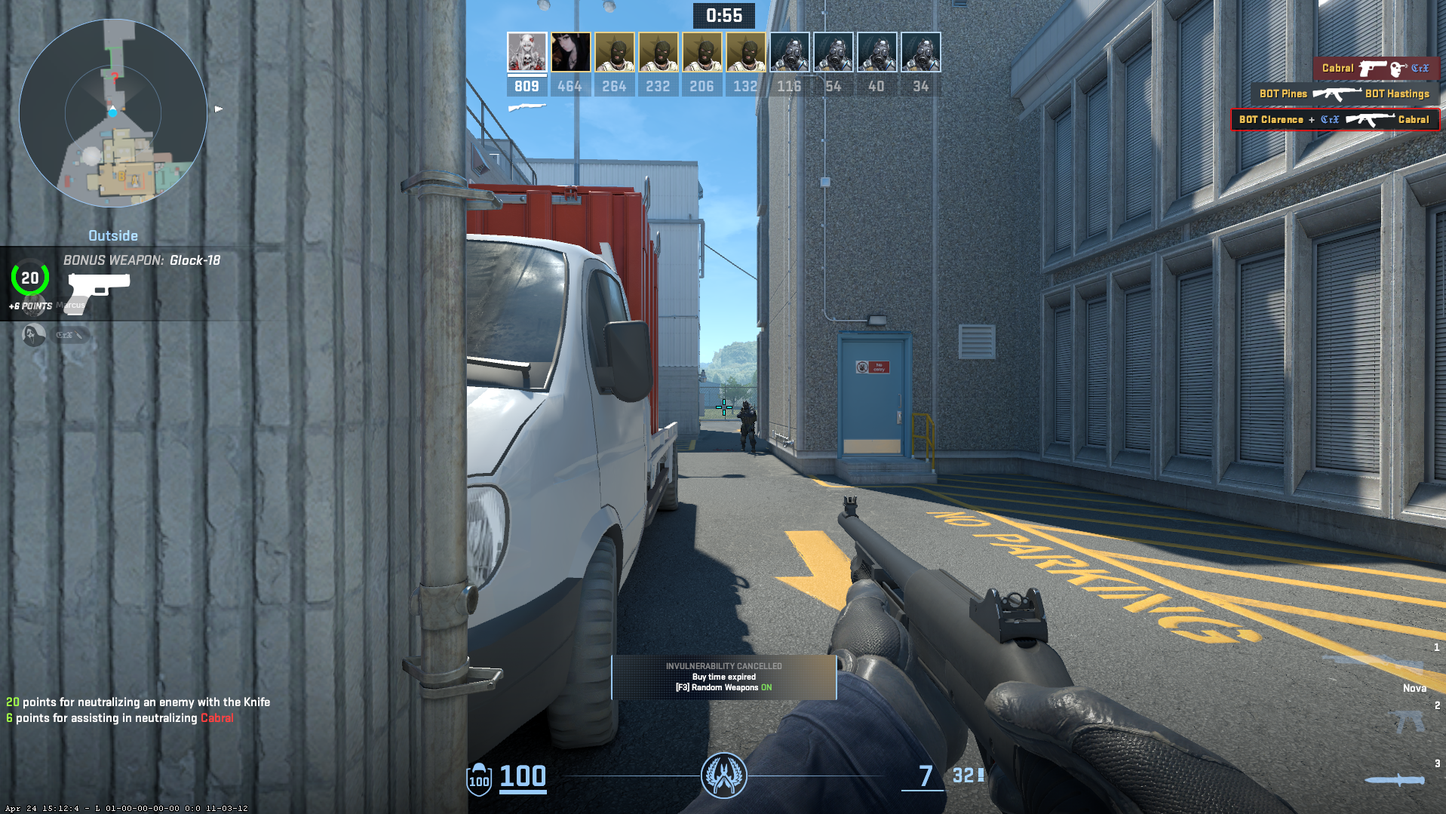CT: (737, 399, 761, 453)
